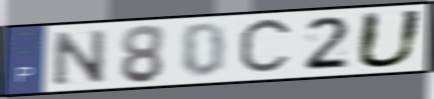0: (179, 21, 230, 80)
2: (299, 15, 356, 72)
8: (117, 23, 167, 85)
C: (236, 15, 296, 79)
N: (51, 27, 108, 88)
U: (352, 8, 428, 71)
